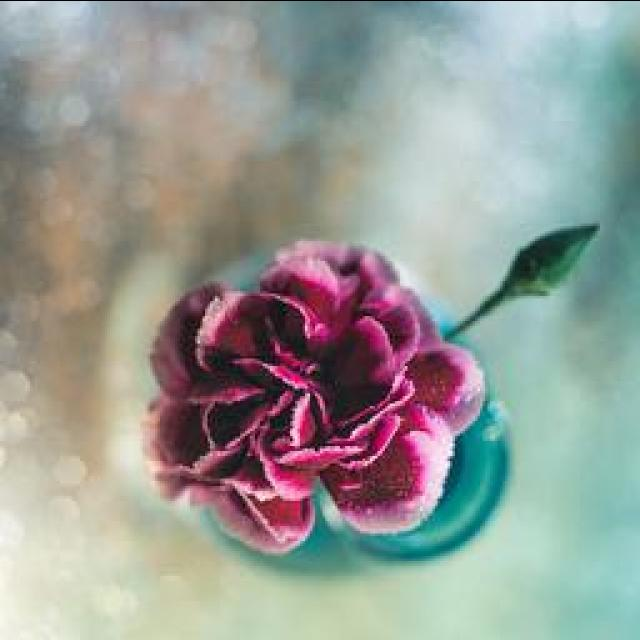carnation: (168, 230, 488, 576)
